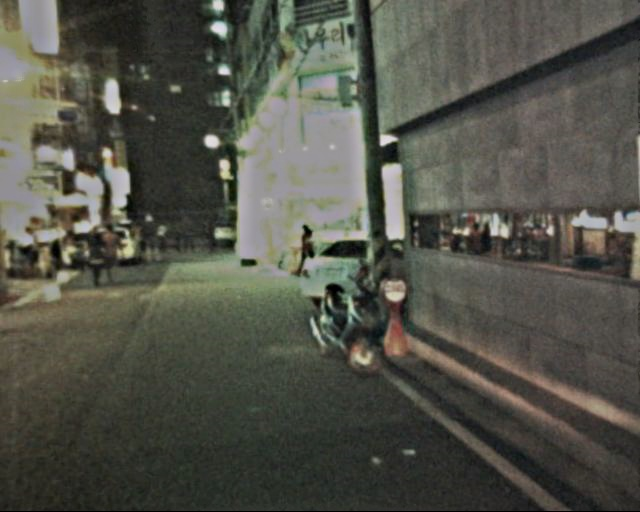person: (132, 220, 212, 254), (100, 220, 129, 283), (86, 221, 112, 282), (295, 223, 320, 281)
